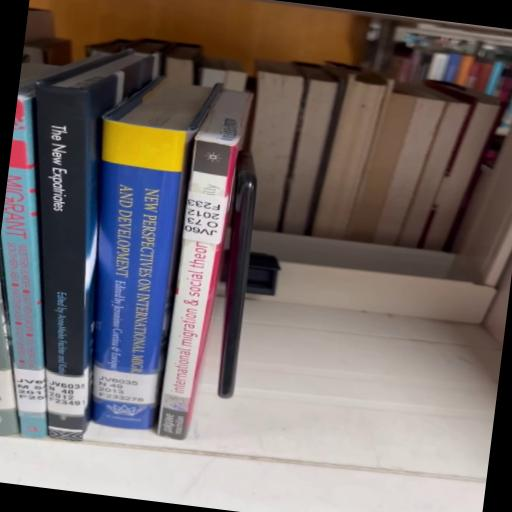book: (36, 52, 158, 442), (92, 78, 223, 431), (1, 175, 48, 439)
reverse: (158, 91, 253, 441)
